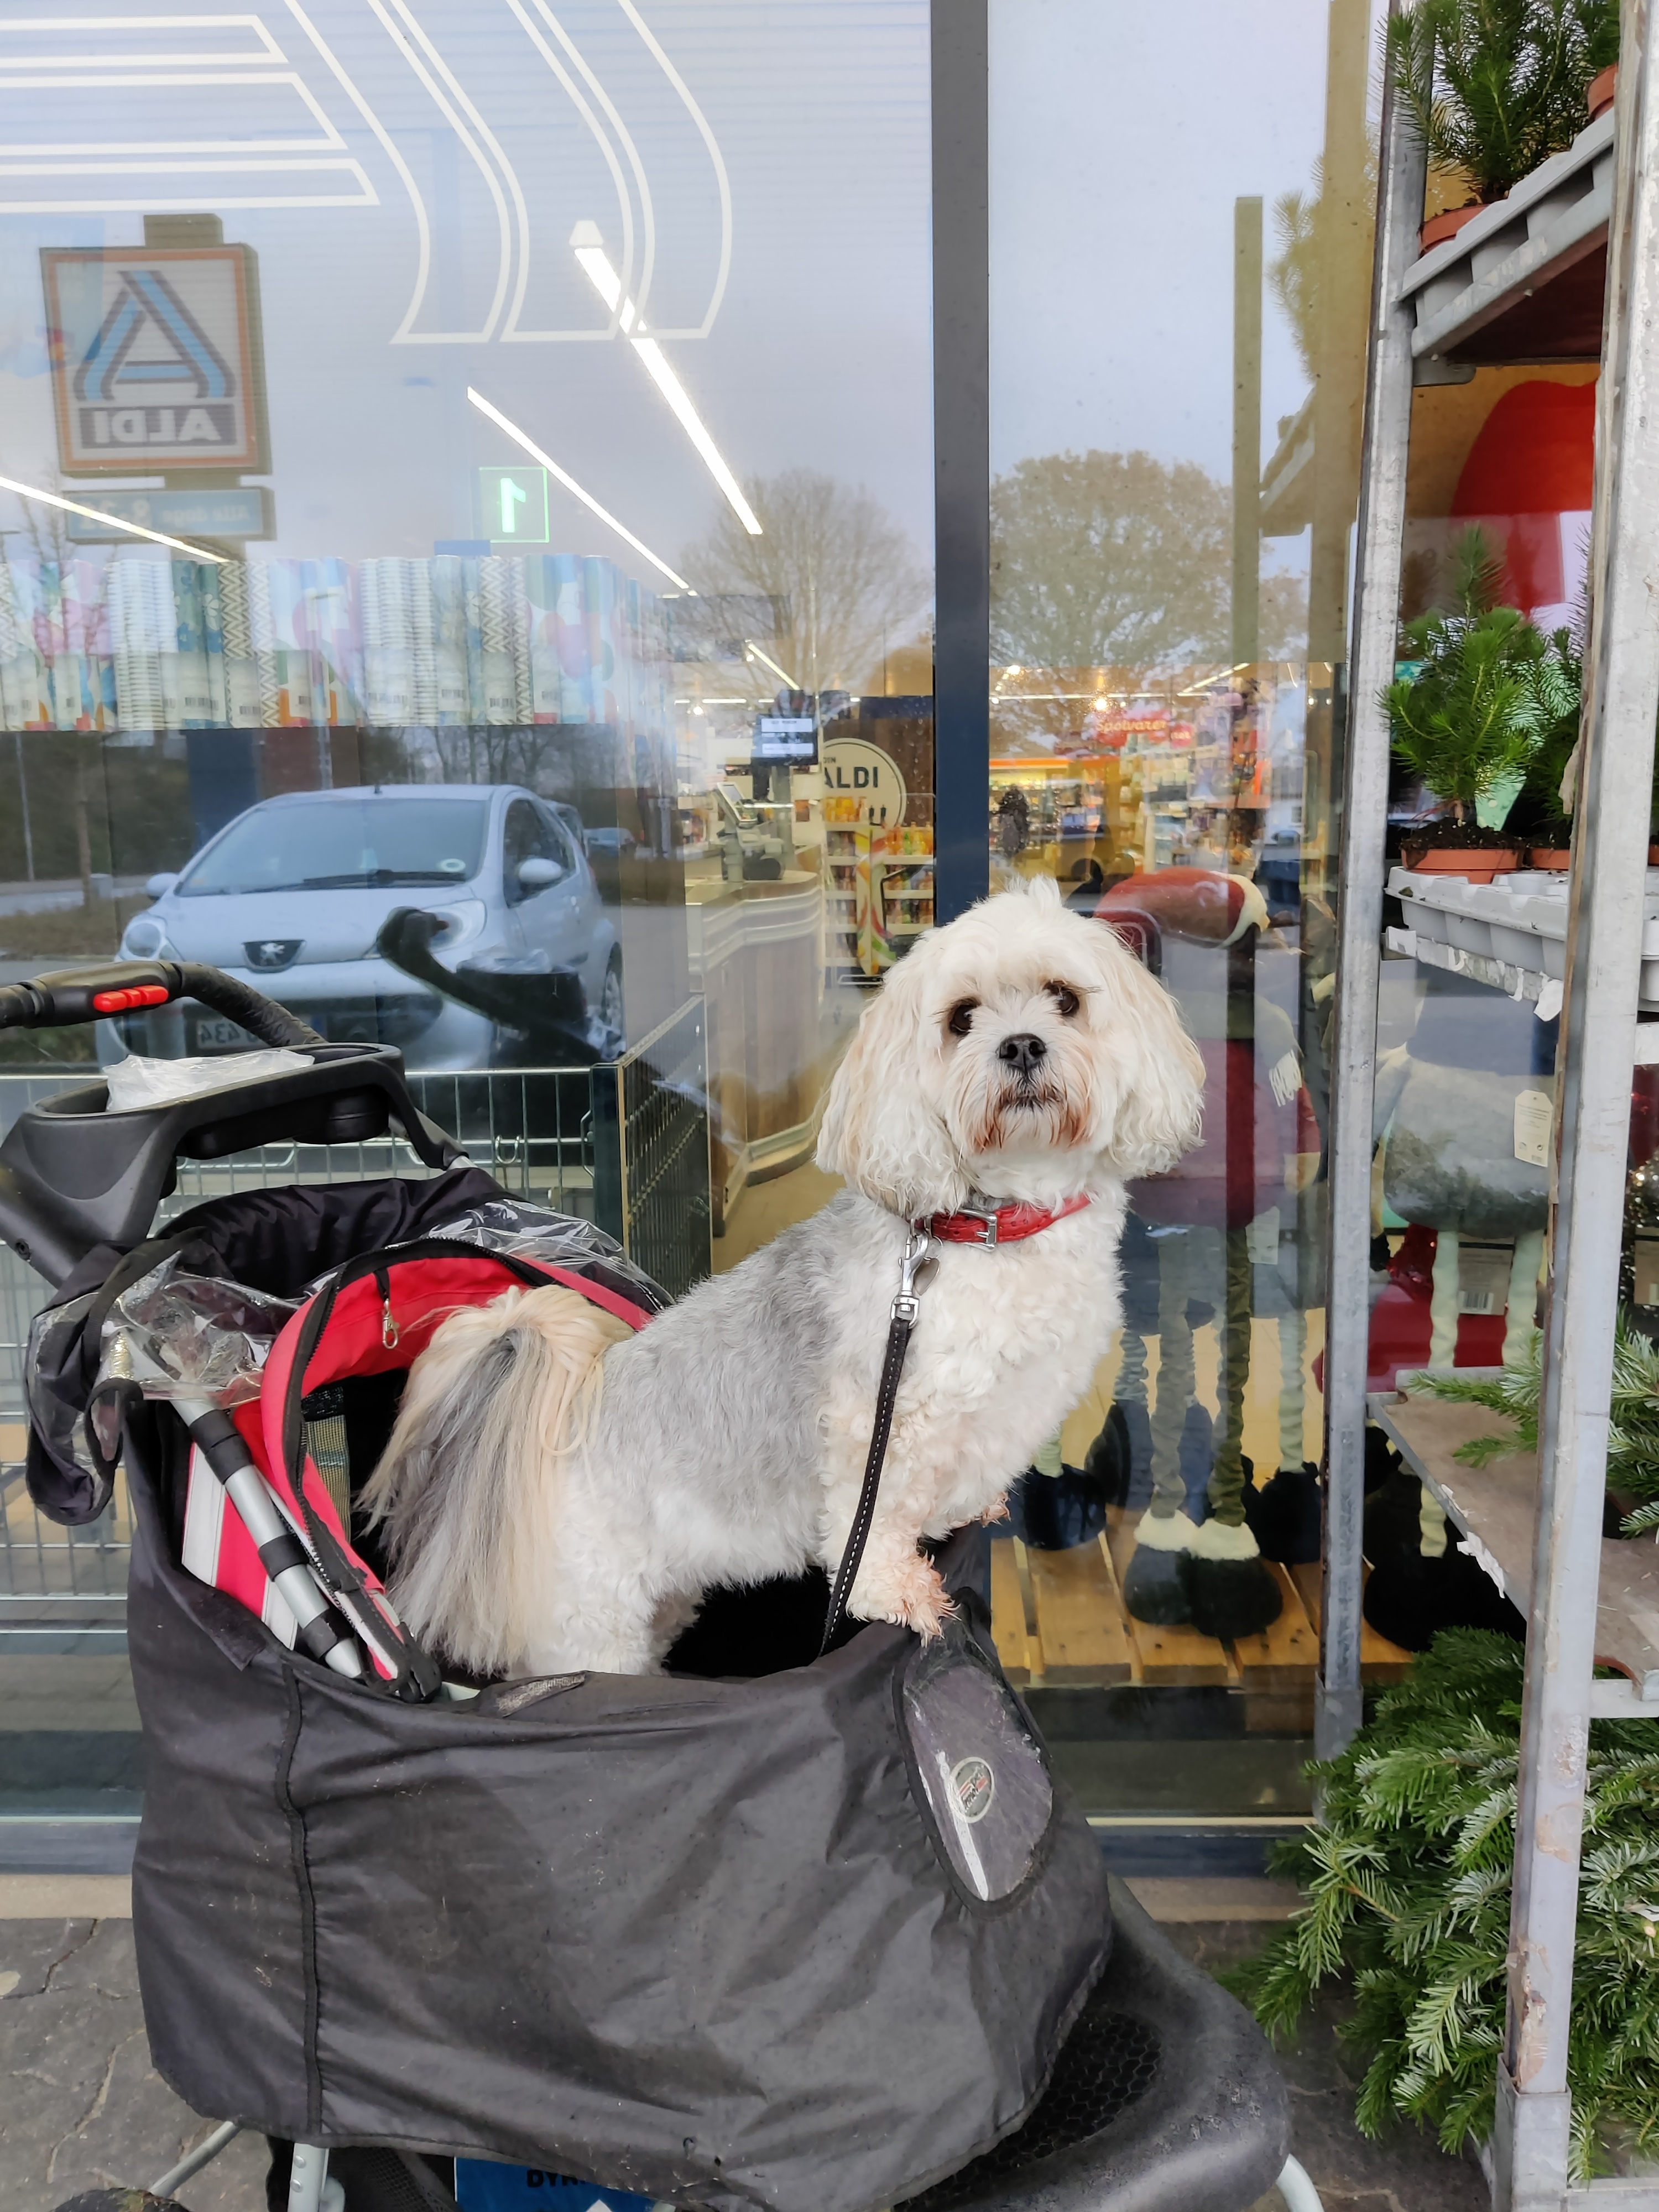Dog: (347, 860, 1218, 1703)
